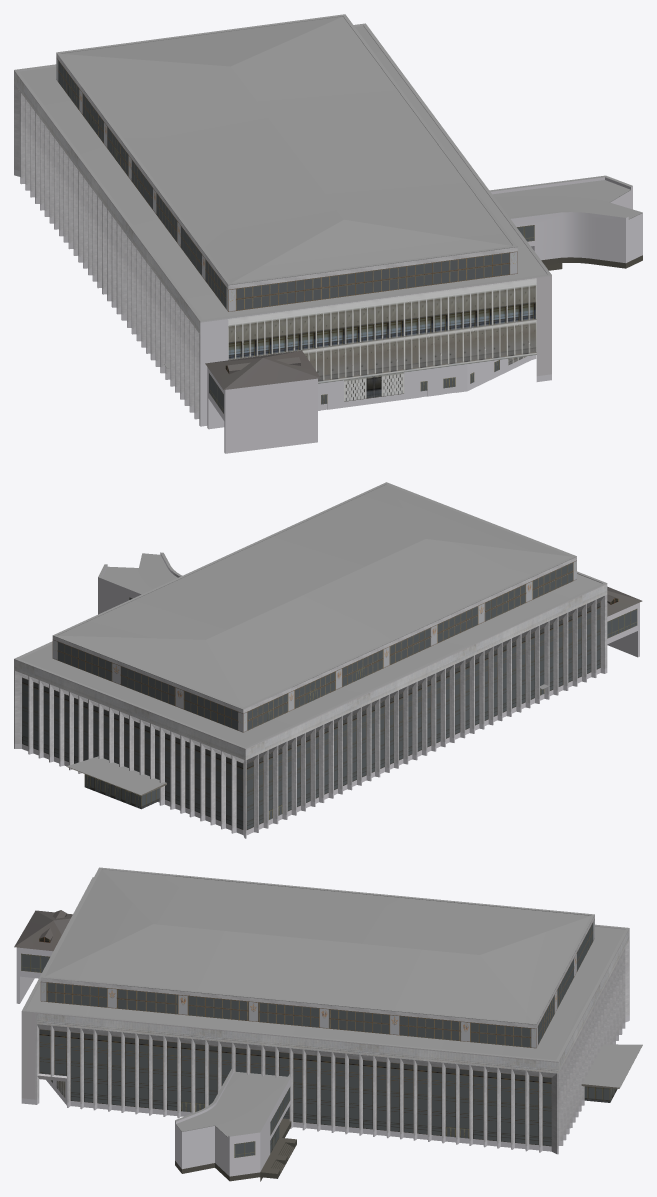
3 views of the same model, one above another, from view 1: azimuth 30°, elevation 25°; view 2: azimuth 150°, elevation 25°; view 3: azimuth 270°, elevation 25° (orthographic). The views are drawn at different scales.
Visible parts, largest first — view 1: 01080-50@87114_1; view 2: 01080-50@87114_1; view 3: 01080-50@87114_1.
Boxes of the visible parts, x1=… form: 01080-50@87114_1: x1=14, y1=14, x2=642, y2=453; 01080-50@87114_1: x1=14, y1=482, x2=642, y2=838; 01080-50@87114_1: x1=14, y1=867, x2=642, y2=1181.
Size of the model in its own units: 119 by 30.75 by 141.
1 material, 1 textured.
